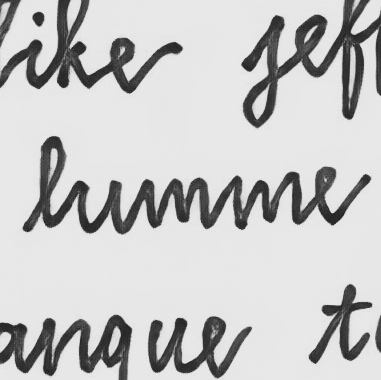e: (311, 165, 359, 227)
l: (35, 134, 70, 231)
m: (229, 169, 304, 231), (139, 174, 211, 231)
u: (74, 178, 123, 235)
